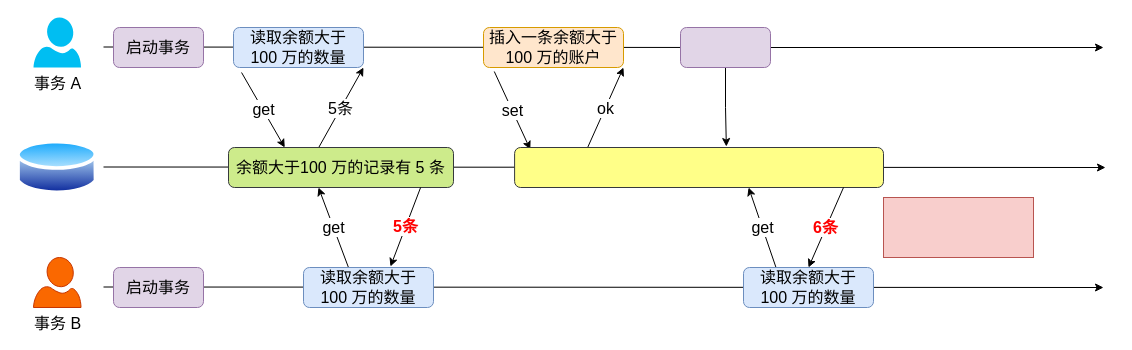
Image size: 1132x350. Some labels were removed from this diagram. The centre of each missing label's shape, as x and y in pixels:
余额大于100 万的记录变为 6 条: point (699, 167)
刚才不是 5 条吗？ 怎么变成 6 条了？ 幻觉？？？: point (958, 227)
提交事务: point (725, 47)
数据库: point (56, 167)
